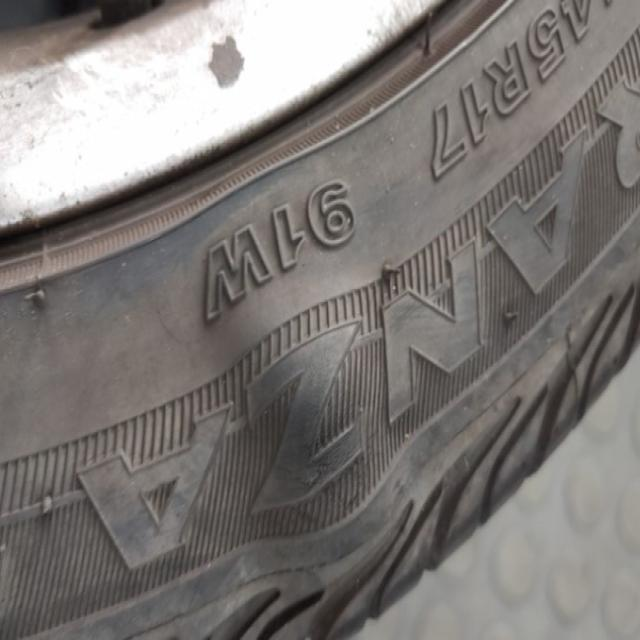Bulge: (236, 291, 394, 547)
